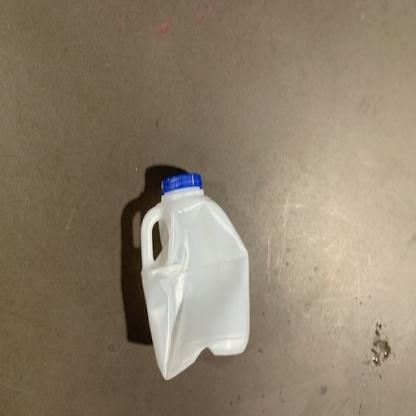trash: (139, 168, 251, 381)
